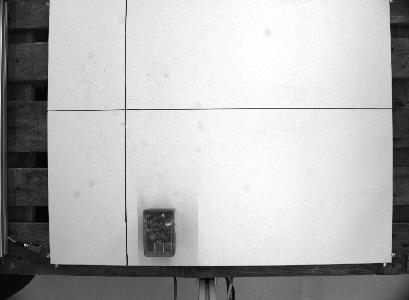kltxs: (140, 206, 178, 259)
